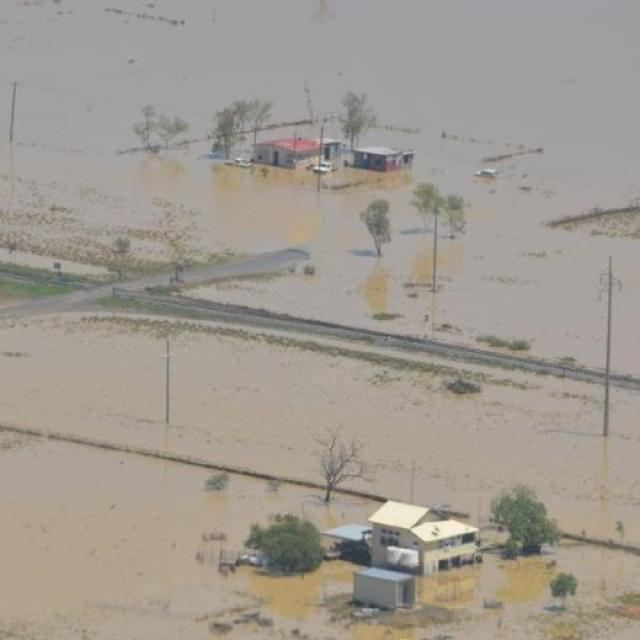flooded_areas: (151, 25, 543, 292), (193, 464, 604, 639)
